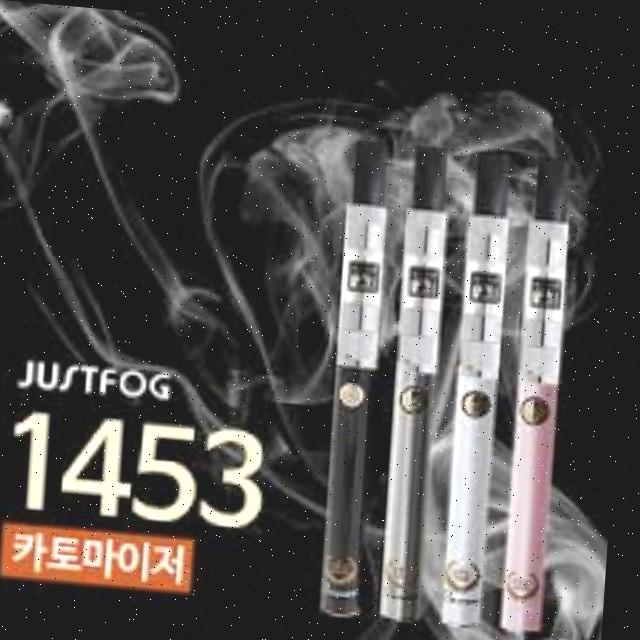vape: (386, 140, 456, 617), (325, 131, 394, 614), (448, 143, 514, 619), (510, 146, 573, 622)
